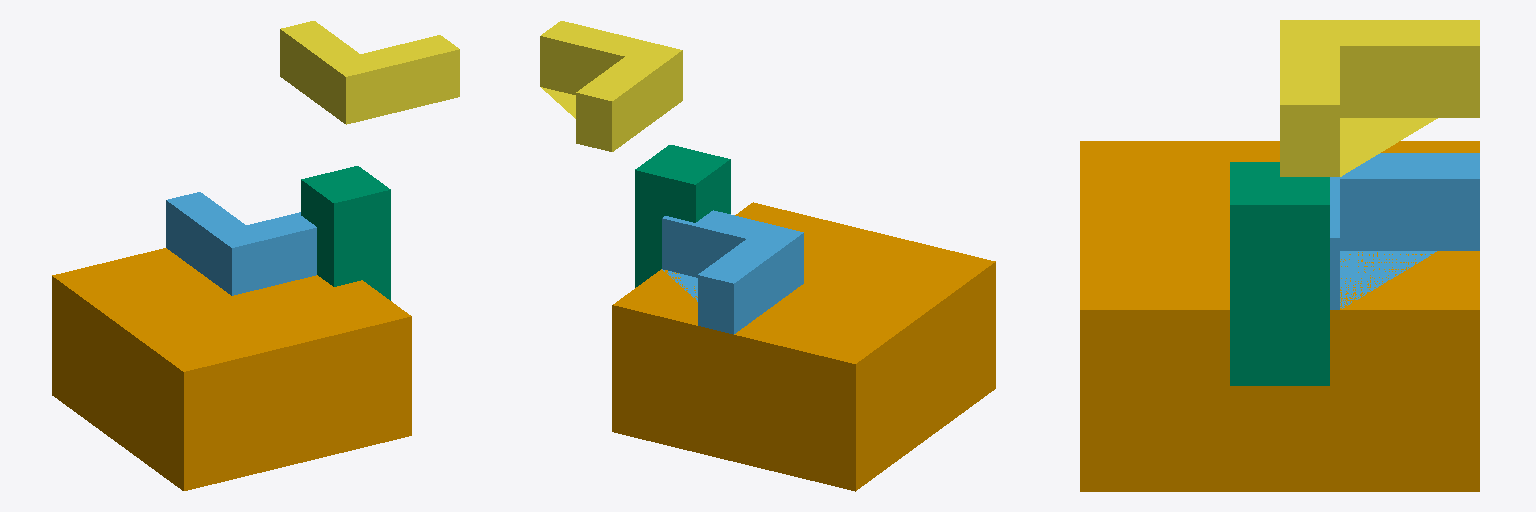
URDF robot description (d_mesh_collision):
<?xml version="1.0"?>
<!--
  SPDX-FileCopyrightText: Copyright (c) 2026 urdf-usd-bridge contributors
  SPDX-License-Identifier: Apache-2.0

  Fixture (d) - mesh colliders.

  Targets the one claim in docs/ANALYSIS.md section 1.4 that Phase 2.5 left
  source-only: "mesh colliders are always convexHull". Fixtures (a)-(c) use
  <box> collision geometry, so the converter authors no MeshCollisionAPI at all
  and the claim could not be tested behaviourally.

  mesh_link      - <collision> is a concave L-shaped <mesh>. Expect
                   MeshCollisionAPI with physics:approximation = "convexHull",
                   which fills the L's notch.
  Controls:
  box_link       - <collision> is a <box>, so no MeshCollisionAPI and no
                   approximation should be authored. Proves the assertion is
                   about meshes, not about every collider.
  visual_only_link - a <mesh> used for <visual> only, with no <collision>.
                   Proves the approximation follows the collider, not the mesh.
-->
<robot name="d_mesh_collision">

  <link name="base_link">
    <inertial>
      <origin xyz="0 0 0"/>
      <mass value="5.0"/>
      <inertia ixx="0.05" ixy="0" ixz="0" iyy="0.05" iyz="0" izz="0.05"/>
    </inertial>
    <visual>
      <geometry><box size="0.2 0.2 0.1"/></geometry>
    </visual>
    <collision>
      <geometry><box size="0.2 0.2 0.1"/></geometry>
    </collision>
  </link>

  <link name="mesh_link">
    <inertial>
      <origin xyz="0.03 0.03 0.02"/>
      <mass value="1.5"/>
      <inertia ixx="0.002" ixy="0" ixz="0" iyy="0.002" iyz="0" izz="0.003"/>
    </inertial>
    <visual>
      <geometry><mesh filename="meshes/l_bracket.obj"/></geometry>
    </visual>
    <collision>
      <geometry><mesh filename="meshes/l_bracket.obj"/></geometry>
    </collision>
  </link>

  <link name="box_link">
    <inertial>
      <origin xyz="0 0 0.05"/>
      <mass value="0.8"/>
      <inertia ixx="0.001" ixy="0" ixz="0" iyy="0.001" iyz="0" izz="0.0005"/>
    </inertial>
    <visual>
      <geometry><box size="0.05 0.05 0.1"/></geometry>
    </visual>
    <collision>
      <geometry><box size="0.05 0.05 0.1"/></geometry>
    </collision>
  </link>

  <link name="visual_only_link">
    <inertial>
      <origin xyz="0 0 0"/>
      <mass value="0.2"/>
      <inertia ixx="0.0001" ixy="0" ixz="0" iyy="0.0001" iyz="0" izz="0.0001"/>
    </inertial>
    <visual>
      <geometry><mesh filename="meshes/l_bracket.obj"/></geometry>
    </visual>
  </link>

  <joint name="base_to_mesh" type="revolute">
    <parent link="base_link"/>
    <child link="mesh_link"/>
    <origin xyz="0 0 0.05" rpy="0 0 0"/>
    <axis xyz="0 0 1"/>
    <limit lower="-1.57" upper="1.57" effort="40.0" velocity="2.0"/>
    <dynamics damping="0.8" friction="0.2"/>
  </joint>

  <joint name="mesh_to_box" type="revolute">
    <parent link="mesh_link"/>
    <child link="box_link"/>
    <origin xyz="0.1 0 0.02" rpy="0 0 0"/>
    <axis xyz="0 1 0"/>
    <limit lower="-0.8" upper="0.8" effort="12.0" velocity="1.5"/>
  </joint>

  <joint name="box_to_visual" type="fixed">
    <parent link="box_link"/>
    <child link="visual_only_link"/>
    <origin xyz="0 0 0.1" rpy="0 0 0"/>
  </joint>

</robot>

--- Facts derived from the render (not from the file) ---
Views: 3 orthographic renders of the robot side by side, from view 1: azimuth 30°, elevation 25°; view 2: azimuth 150°, elevation 25°; view 3: azimuth 270°, elevation 25°.
Model d_mesh_collision with 4 links and 3 joints (2 revolute, 1 fixed), rooted at base_link, posed all joints at 0.
Visible links, largest first — view 1: base_link, visual_only_link, mesh_link, box_link; view 2: base_link, visual_only_link, mesh_link, box_link; view 3: base_link, visual_only_link, box_link, mesh_link.
Boxes of the visible links, x1,y1,x2,y2 form: base_link: (52,248,411,490); visual_only_link: (280,21,459,124); mesh_link: (166,192,316,295); box_link: (301,166,390,300); base_link: (612,202,995,491); visual_only_link: (540,21,682,151); mesh_link: (662,210,803,334); box_link: (635,145,730,287); base_link: (1080,141,1479,491); visual_only_link: (1280,20,1479,176); box_link: (1230,162,1329,385); mesh_link: (1330,153,1479,309).
Bounding box of the posed robot: 0.3 × 0.2 × 0.26 m (x, y, z).
2 mesh visuals loaded from 1 distinct referenced files (1 OBJ).
